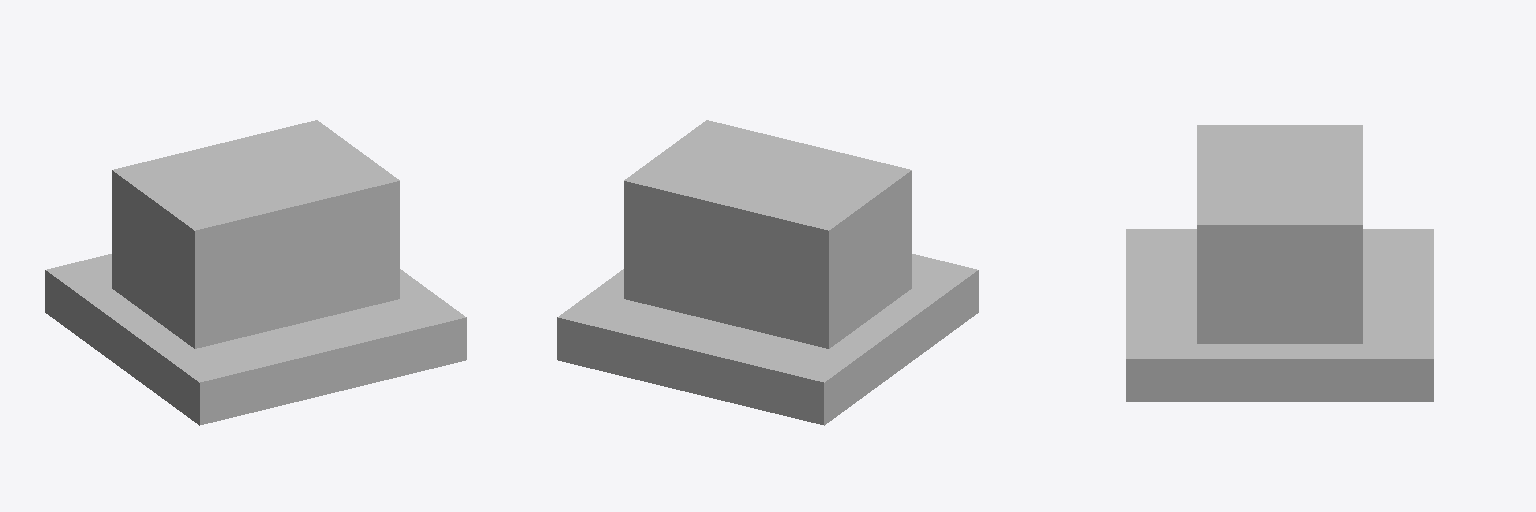
The model's file is tile_hospital.obj.
The picture shows the model from 3 angles: view 1: azimuth 30°, elevation 25°; view 2: azimuth 150°, elevation 25°; view 3: azimuth 270°, elevation 25°; orthographic projection.
Visible parts, largest first — view 1: tile_hospital; view 2: tile_hospital; view 3: tile_hospital.
Boxes of the visible parts, <box> form: tile_hospital: <box>45,120,466,425</box>; tile_hospital: <box>557,120,978,425</box>; tile_hospital: <box>1126,125,1433,401</box>.
Size of the model in its own units: 6.5 by 3.75 by 6.5.